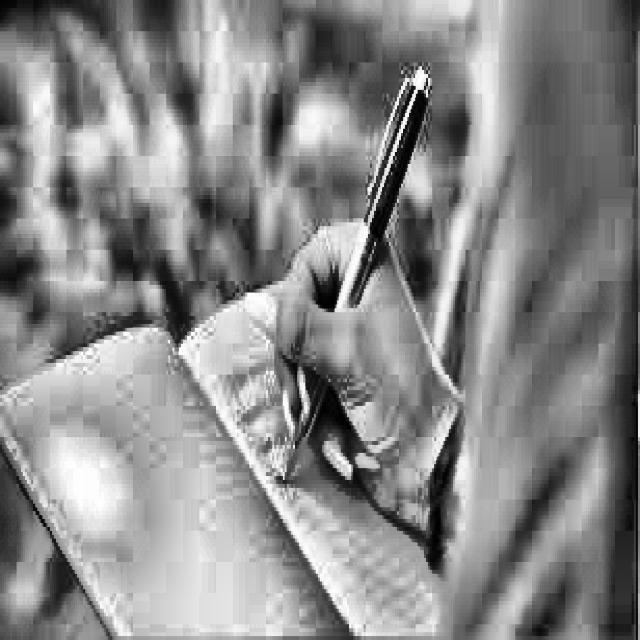Notebook: (1, 263, 458, 640)
Pen: (276, 41, 426, 543)
